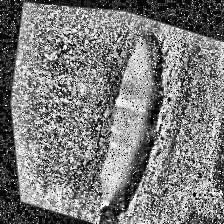pothole: (67, 10, 197, 224)
